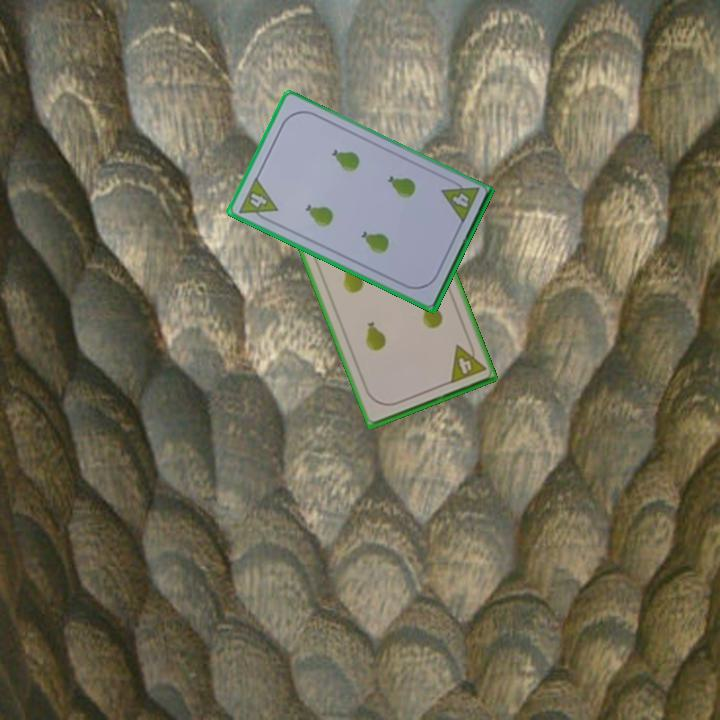4p: (235, 174, 280, 226), (438, 175, 481, 227), (446, 338, 488, 386)
